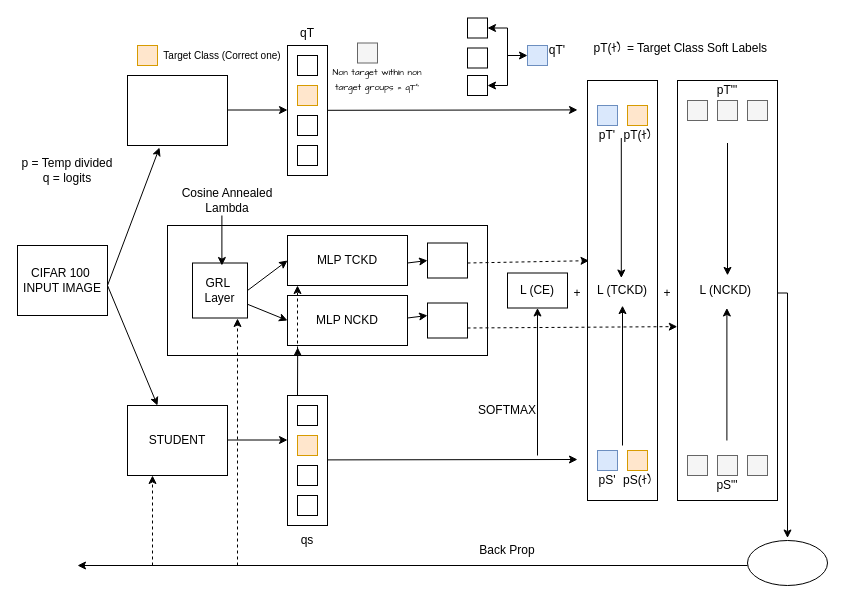
Some shapes in this 845 by 603 pixel diagram are drawn without their labels. Each missing label, with the centre of its shape:
LOSS: point (787, 563)
NCKD t: point (447, 320)
TCKD t: point (447, 260)
TEACHER: point (177, 110)
